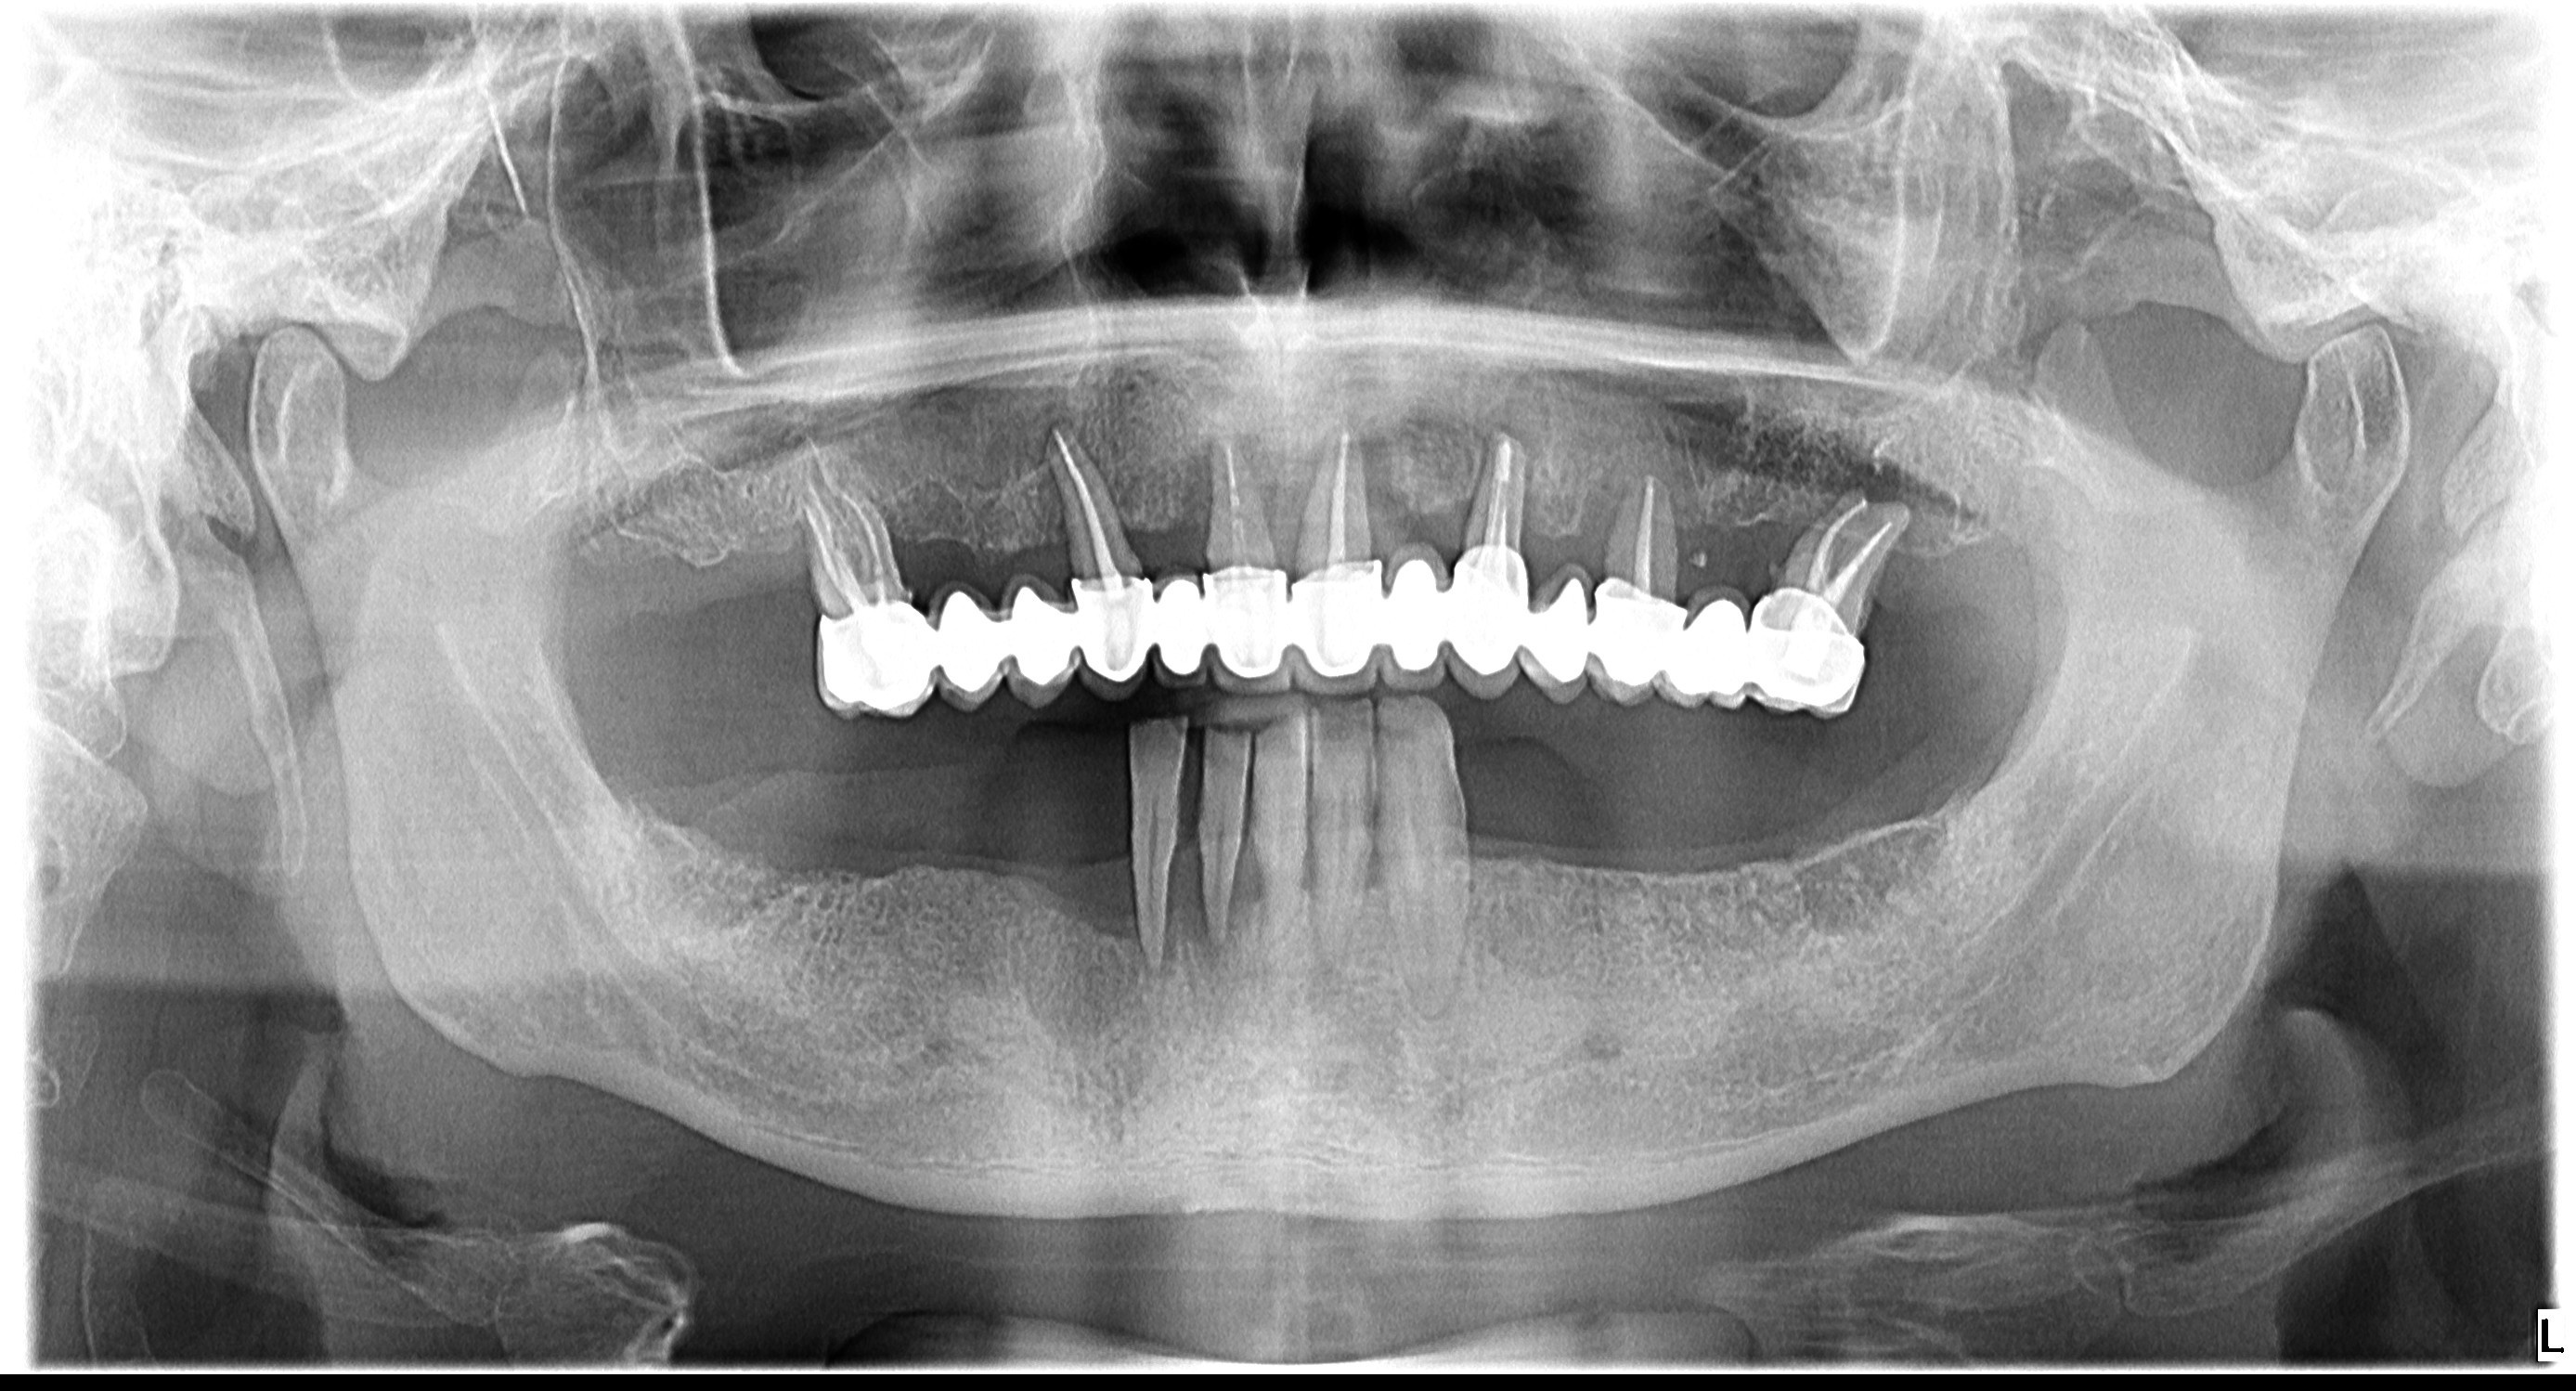BON: (1039, 860, 1143, 983), (1552, 466, 1612, 572), (1448, 800, 1534, 865), (1724, 507, 1826, 560), (1369, 493, 1463, 541), (1130, 498, 1202, 555), (1176, 851, 1203, 949), (1354, 841, 1386, 911), (1239, 848, 1260, 923), (1292, 855, 1313, 918)
CAR: (786, 560, 1886, 711)
END: (775, 459, 911, 606), (1792, 483, 1902, 617), (1037, 430, 1133, 582), (1318, 415, 1366, 560), (1217, 428, 1267, 567), (1629, 475, 1667, 593), (1486, 425, 1513, 558)
